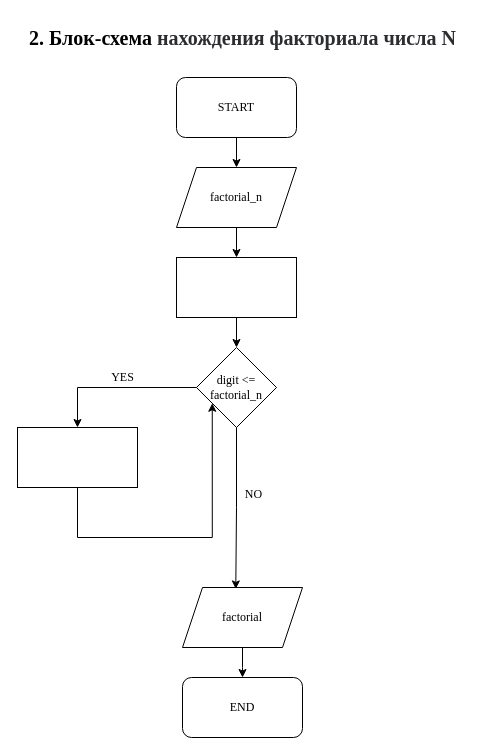
This 485x755 diagram has some shape labels left out. Here are the shapes that lost their labels. From the top down, the box of each, then its label:
(176, 256, 296, 318): digit = 1 factorial = 1
(16, 426, 138, 488): factorial = factorial * digit digit = digit + 1
